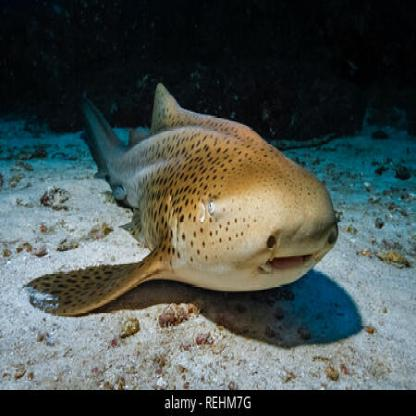zebra_shark: (28, 51, 345, 342)
